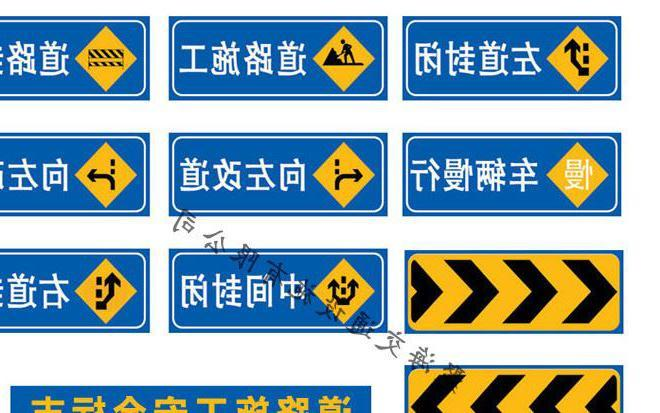sign: (168, 19, 385, 103), (405, 252, 621, 333), (406, 134, 619, 215), (406, 19, 618, 99), (171, 253, 384, 331), (172, 135, 382, 214), (1, 134, 148, 215), (1, 17, 146, 98), (1, 252, 147, 329), (406, 369, 622, 413)
